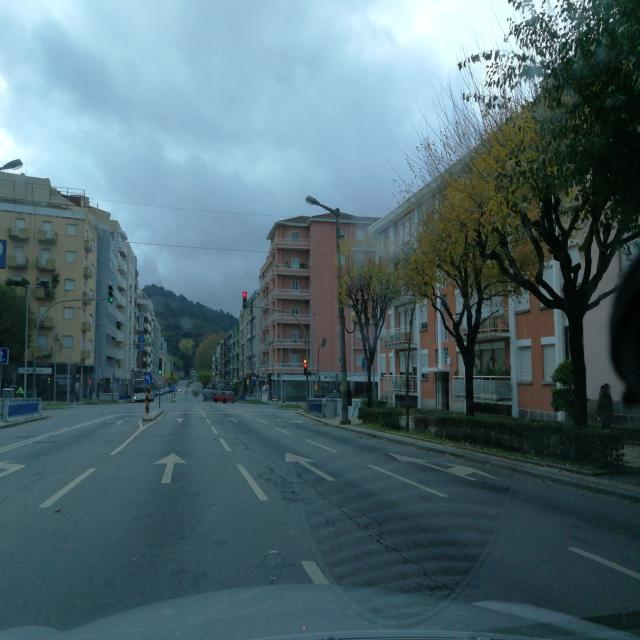car: (213, 390, 236, 404), (202, 388, 215, 402)
